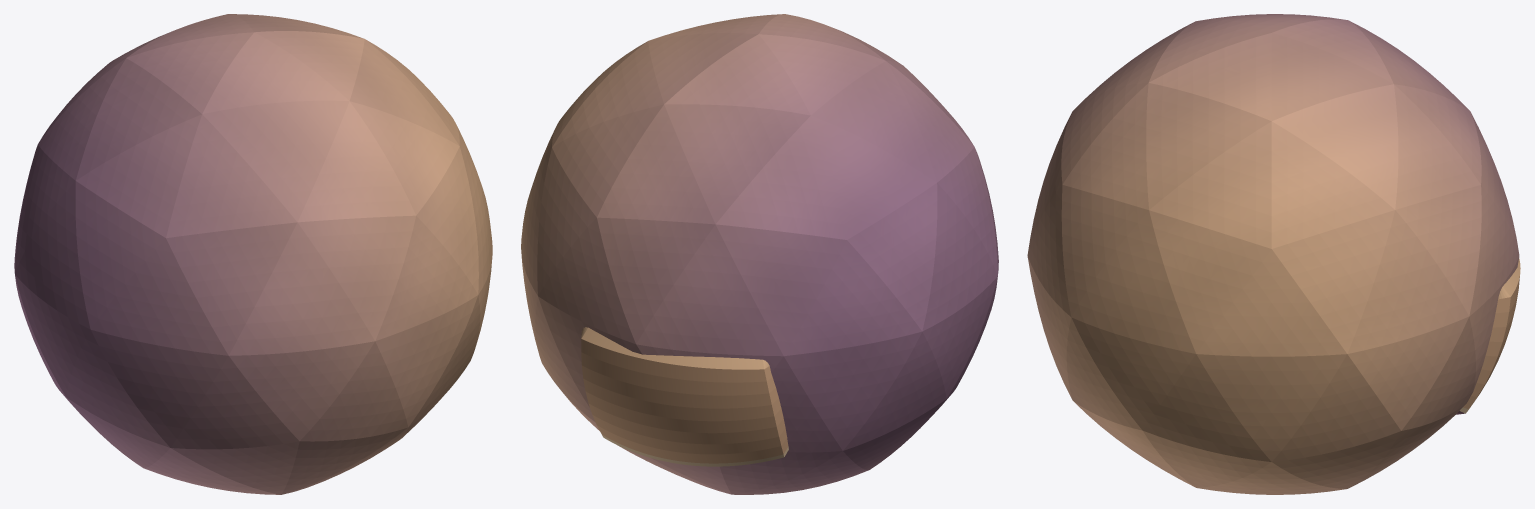
File: Planet.glb
The picture shows the model from 3 angles, left to right: view 1: azimuth 30°, elevation 25°; view 2: azimuth 150°, elevation 25°; view 3: azimuth 270°, elevation 25°; orthographic projection.
Visible parts, largest first — view 1: b612__Planet; view 2: b612__Planet; view 3: b612__Planet.
Boxes of the visible parts, x1=… form: b612__Planet: x1=14, y1=14, x2=492, y2=494; b612__Planet: x1=521, y1=14, x2=998, y2=494; b612__Planet: x1=1027, y1=14, x2=1520, y2=494.
Size of the model in its own units: 4.69 by 4.8 by 4.81.
